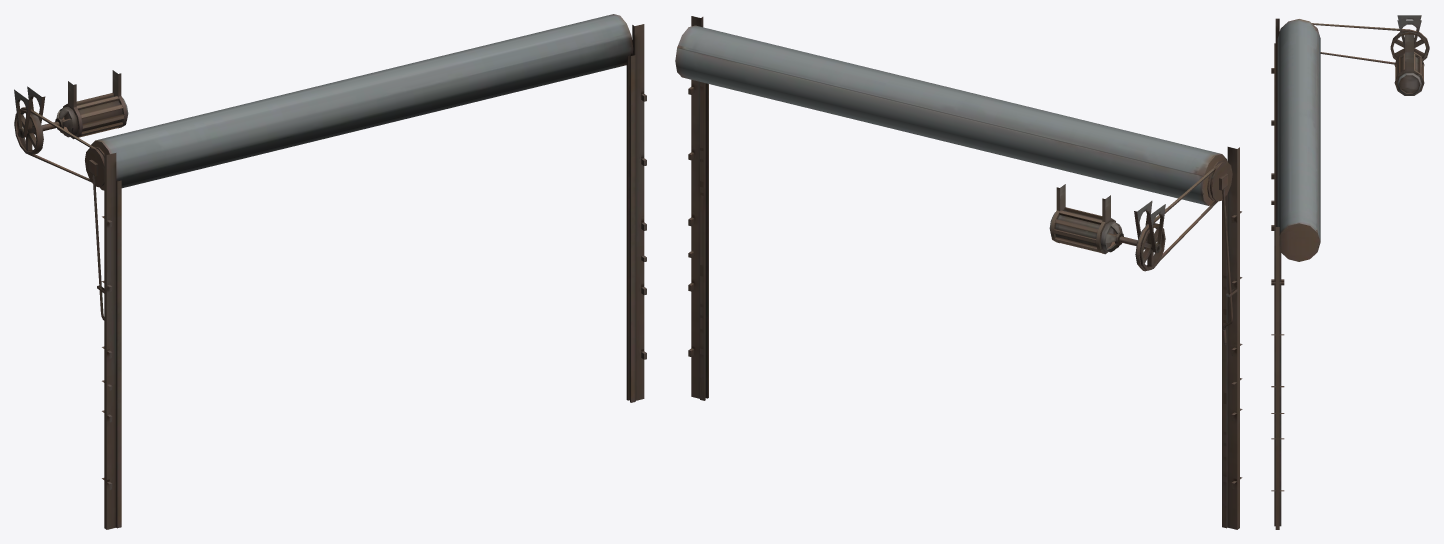
3 renders of one model, left to right at view 1: azimuth 30°, elevation 25°; view 2: azimuth 150°, elevation 25°; view 3: azimuth 270°, elevation 25°, orthographic. The views are drawn at different scales.
Visible parts, largest first — view 1: body0_model0_lod0_mesh0; view 2: body0_model0_lod0_mesh0; view 3: body0_model0_lod0_mesh0.
Part boxes in pixels (left/top/right/bottom): body0_model0_lod0_mesh0: left=14, top=14, right=646, bottom=529; body0_model0_lod0_mesh0: left=675, top=16, right=1242, bottom=529; body0_model0_lod0_mesh0: left=1271, top=15, right=1429, bottom=529.
Bounding box in the file's own units: 193 × 128 × 60.72.
Materials: 1 (1 with a texture image).
